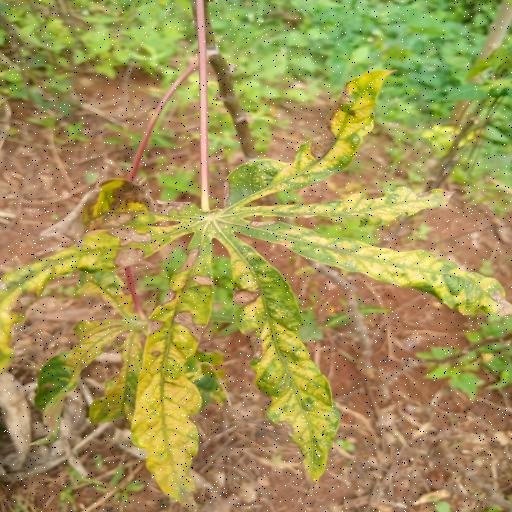Cassava_Mosaic: (5, 69, 512, 504)
